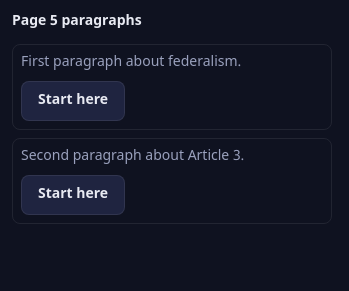
Test: BookmarkPanel › shows the server message when a bookmark is refused
The image size is (349, 291).
Click the button with aria-label "set start bookmark at paragraph 1" at [73, 101], box [21,81,125,121]
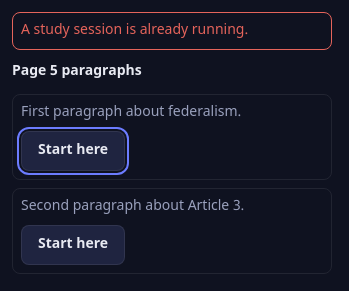
Result: the message shows "already running" at [21,21,248,40]
